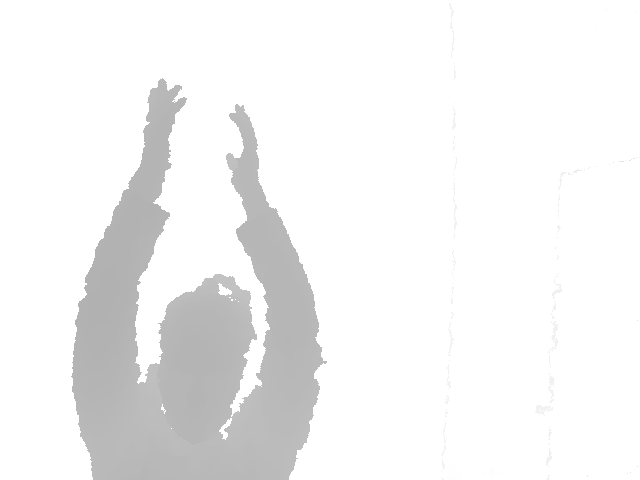hand: (141, 77, 188, 161), (224, 104, 263, 188)
head: (156, 273, 260, 443)
person: (71, 77, 326, 479)
